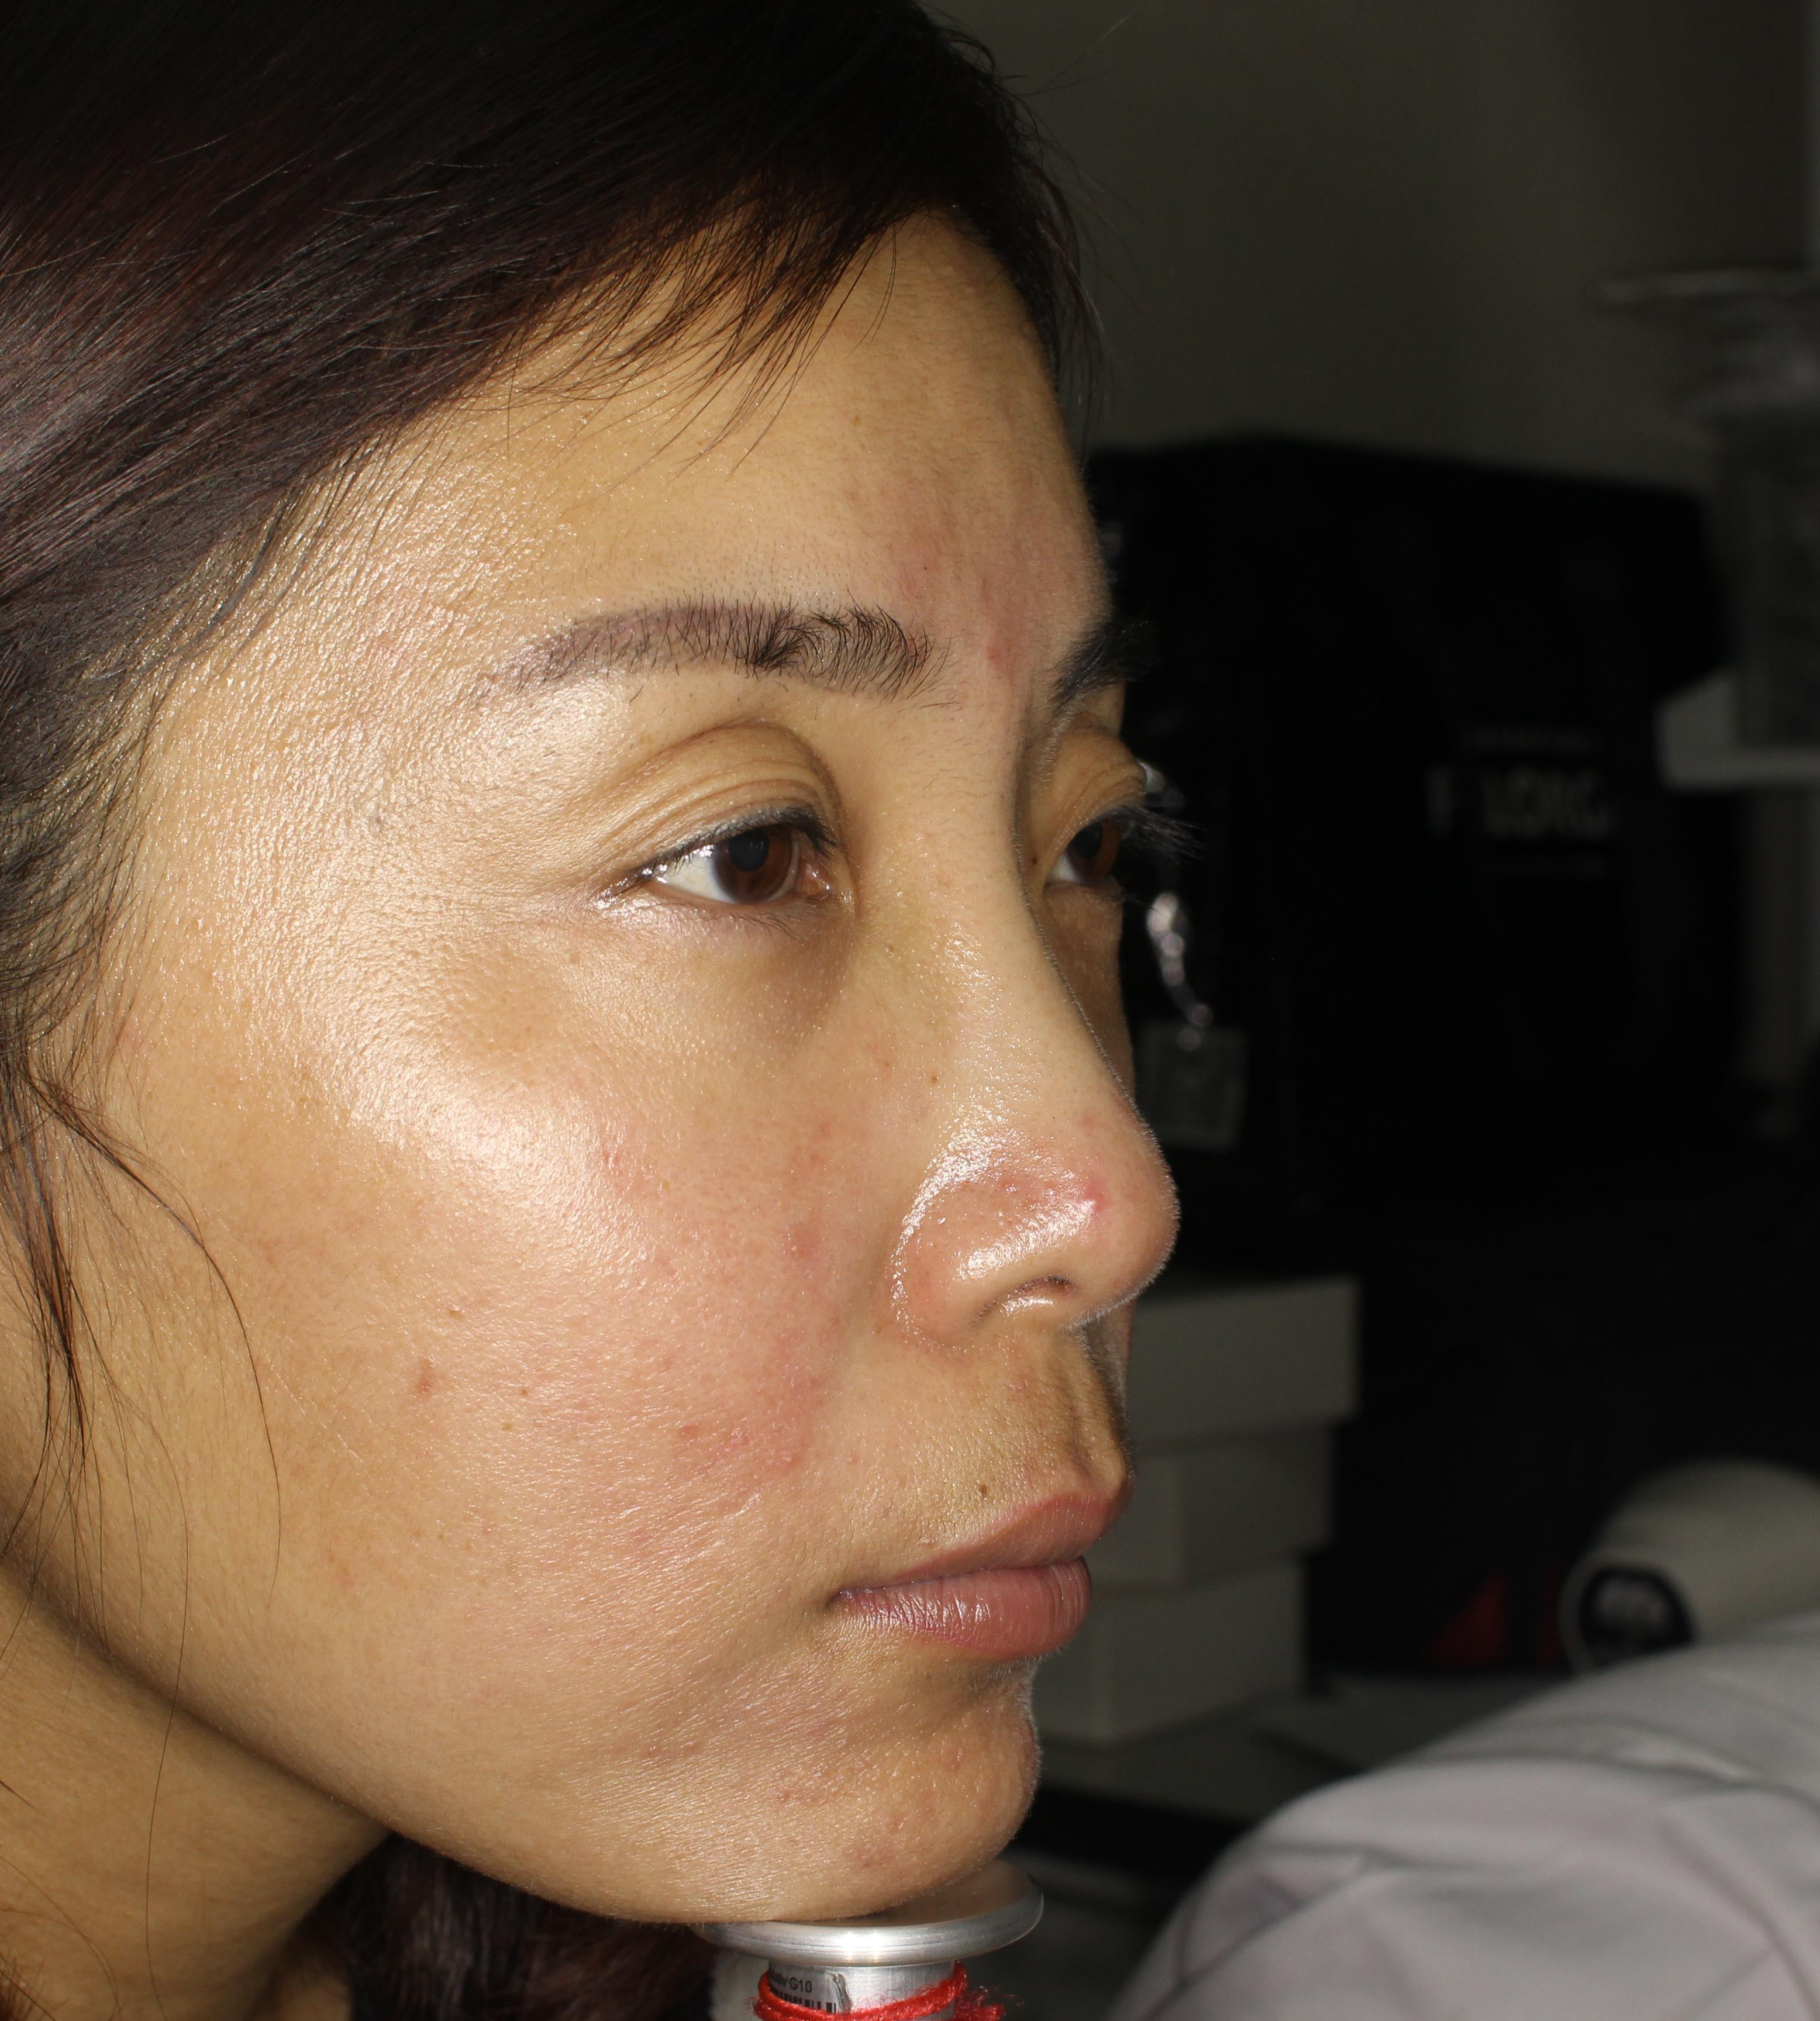fore: (961, 616, 1051, 729), (1068, 1168, 1135, 1257)
